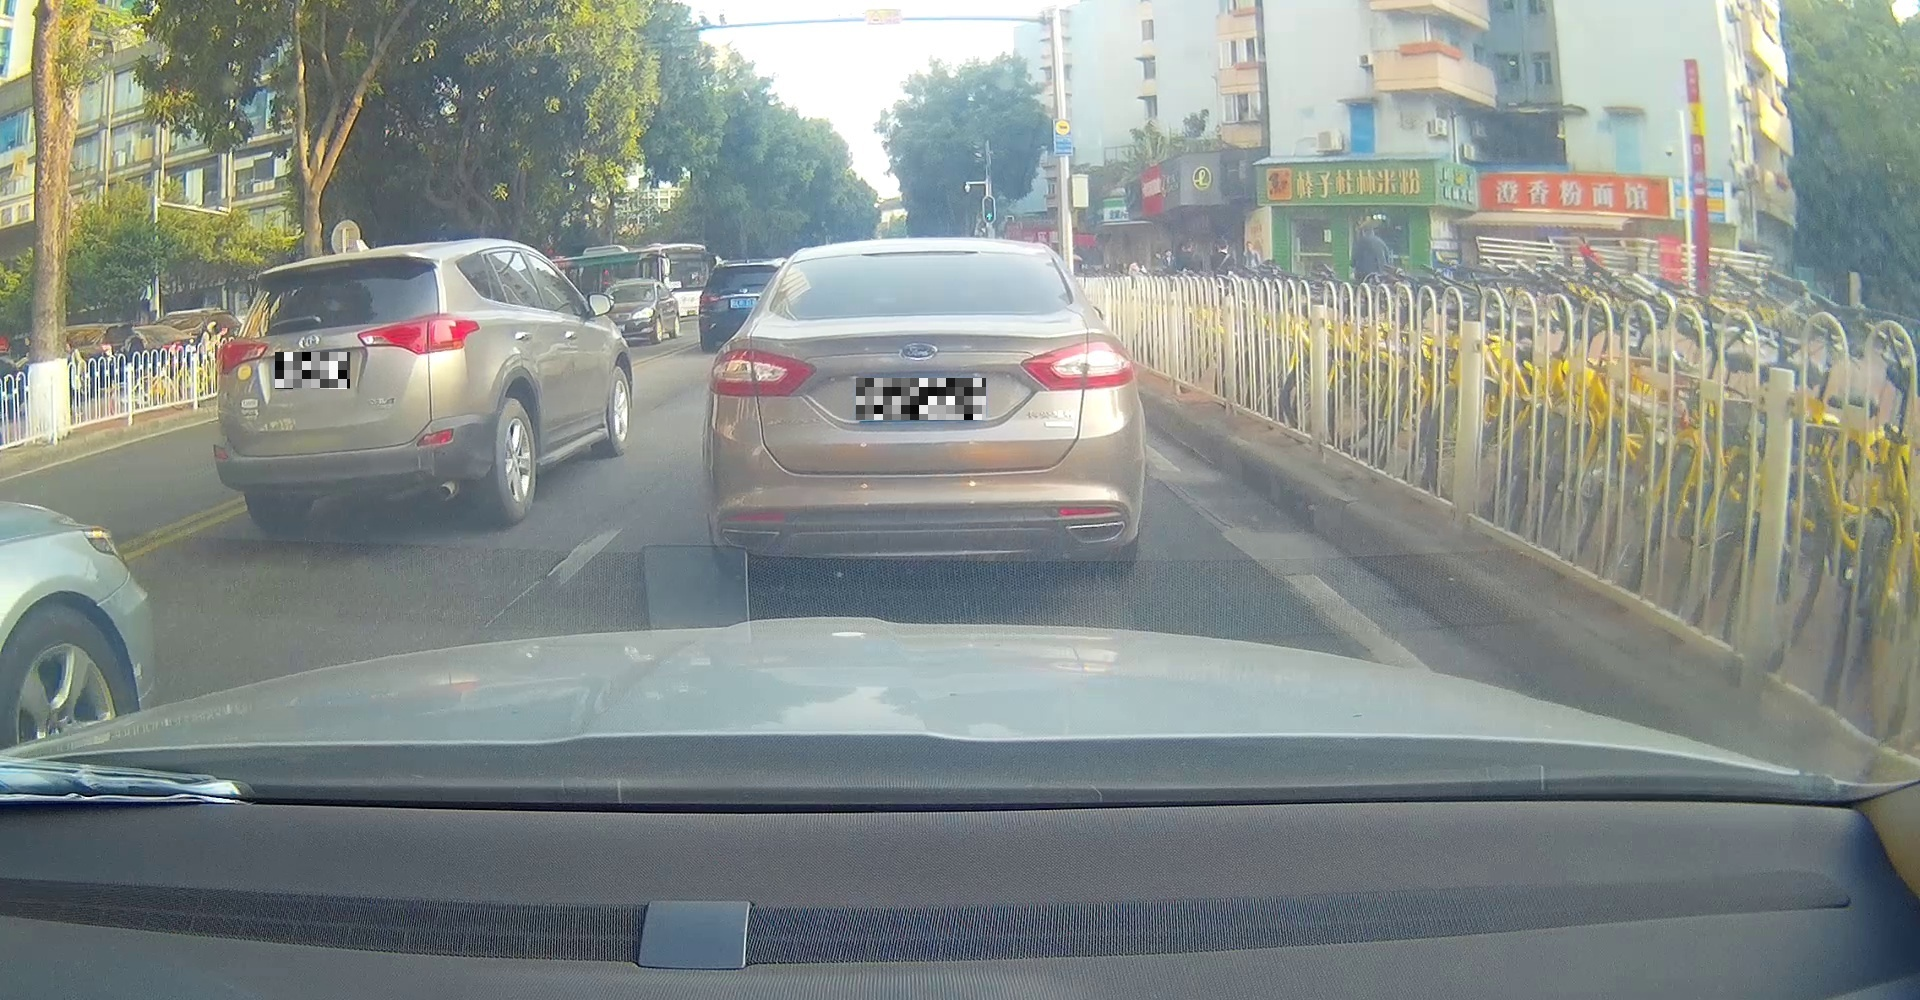L_light: (709, 346, 817, 396), (216, 338, 270, 376)
R_light: (1020, 340, 1134, 391), (357, 313, 481, 355)
T_light: (863, 247, 979, 260), (302, 256, 352, 274)
day-no: (709, 237, 1135, 577), (212, 244, 483, 537)
plate_1: (276, 352, 350, 390)
plate_2: (856, 378, 985, 420)
